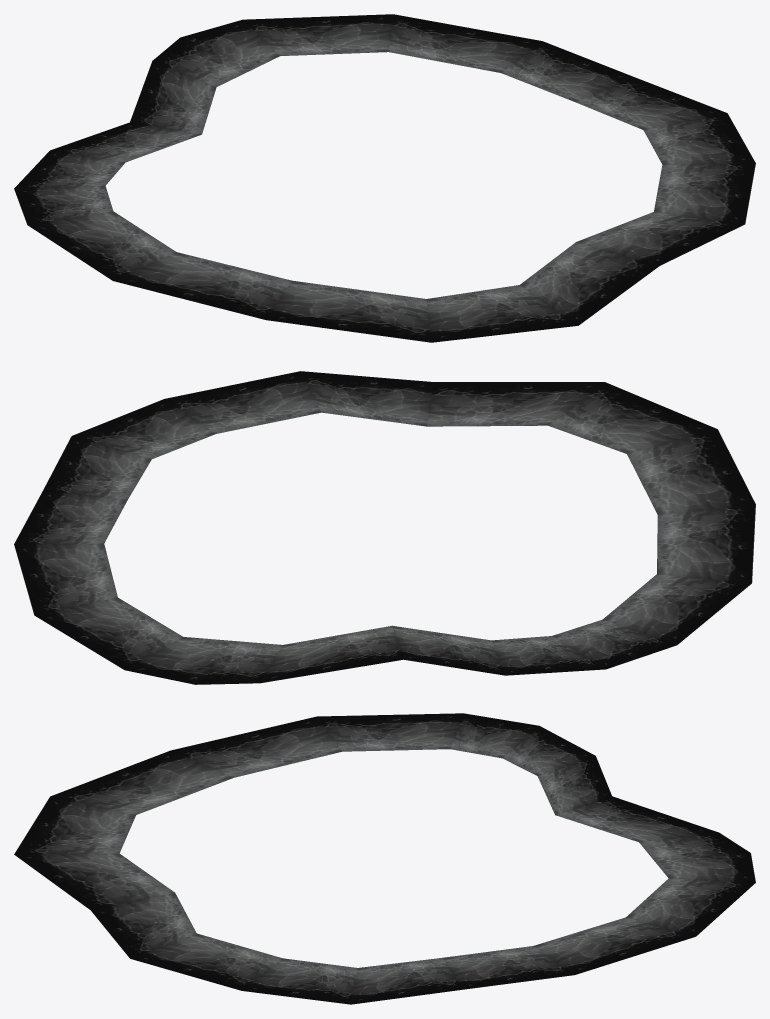
The model's file is wavewall_mesa_01.fbx.
The picture shows the model from 3 angles, top to bottom: view 1: azimuth 30°, elevation 25°; view 2: azimuth 150°, elevation 25°; view 3: azimuth 270°, elevation 25°; orthographic projection. The views are drawn at different scales.
Visible parts, largest first — view 1: obj0.070; view 2: obj0.070; view 3: obj0.070.
Part boxes in pixels (x1,y1,x2,y2): obj0.070: (14, 14, 755, 342); obj0.070: (14, 371, 755, 684); obj0.070: (14, 713, 755, 1004).
Size of the model in its own units: 22.74 by 0.000534 by 24.48.
